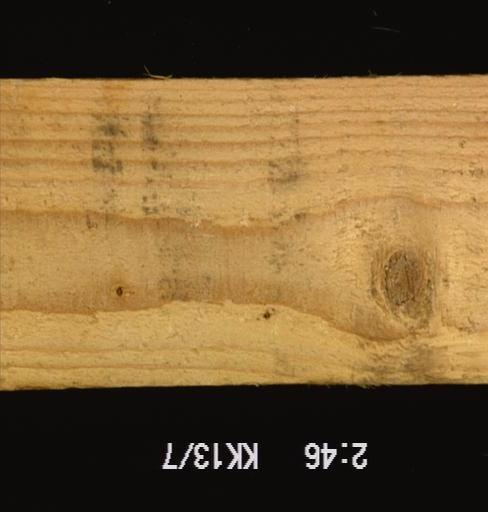dry_knot: (114, 282, 127, 303)
small_knot: (258, 307, 274, 327)
sound_knot: (369, 241, 441, 318)
